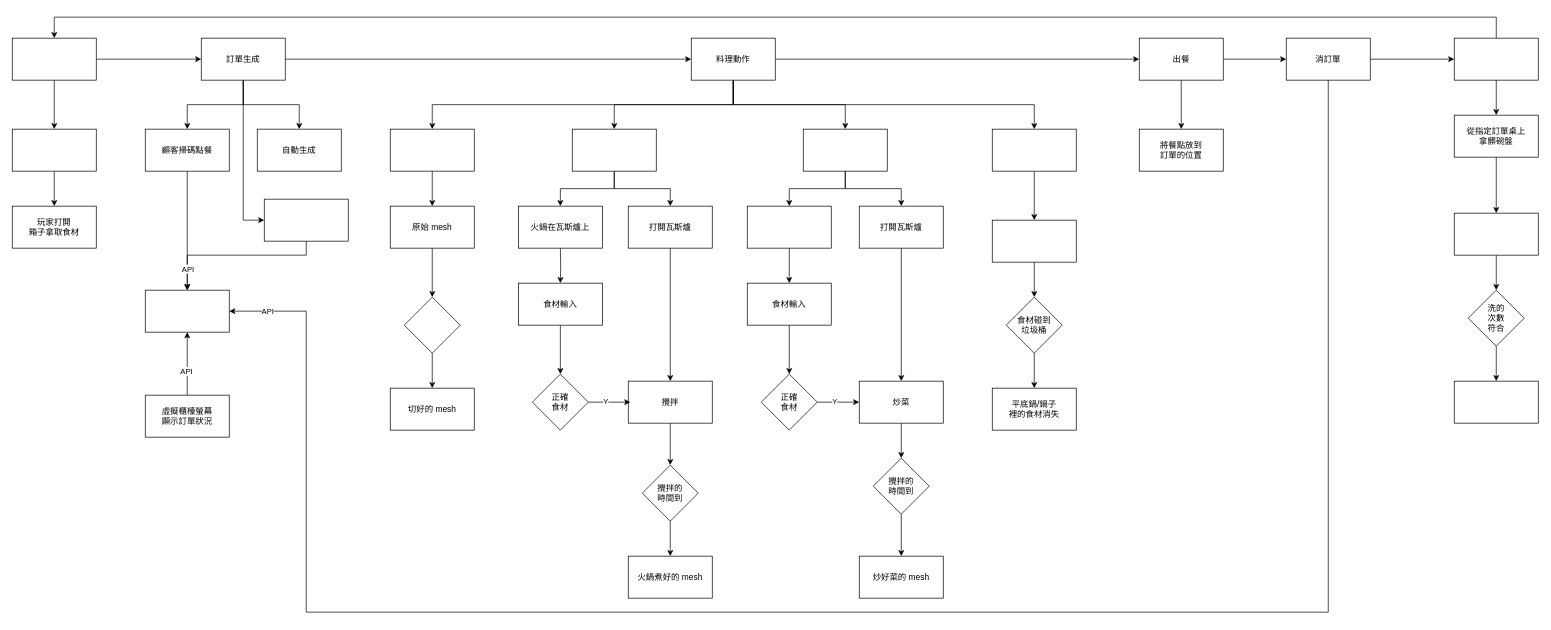
Image size: 1551x630. Some labels were removed from this diagram. The centre of each missing label's shape, as x and y in pixels:
"Unity 定期 pulling" belongs at (x=306, y=219).
"乾淨盤子的 mesh" belongs at (x=1496, y=401).
"倒掉料理" belongs at (x=1034, y=149).
"切的 次數 符合" belongs at (x=432, y=324).
"切菜" belongs at (x=432, y=149).
"在指定物件 上隨機生成" belongs at (x=54, y=149).
"平底鍋在瓦斯爐上" belongs at (x=789, y=226).
"放到洗碗槽" belongs at (x=1496, y=233).
"洗碗" belongs at (x=1496, y=58).
"炒平底鍋" belongs at (x=845, y=149).
"煮火鍋" belongs at (x=614, y=149).
"翻轉 平底鍋/鍋子" belongs at (x=1034, y=240).
"食材/碗盤 生成" belongs at (x=54, y=58).
"點餐系統" belongs at (x=187, y=310).
